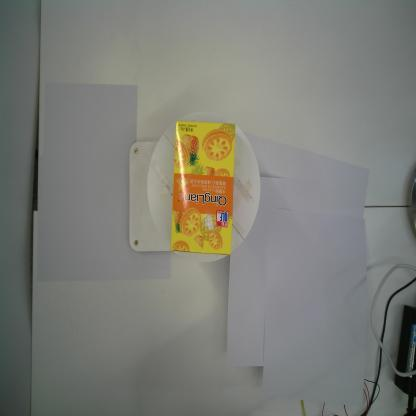Dessert: (170, 119, 236, 256)
